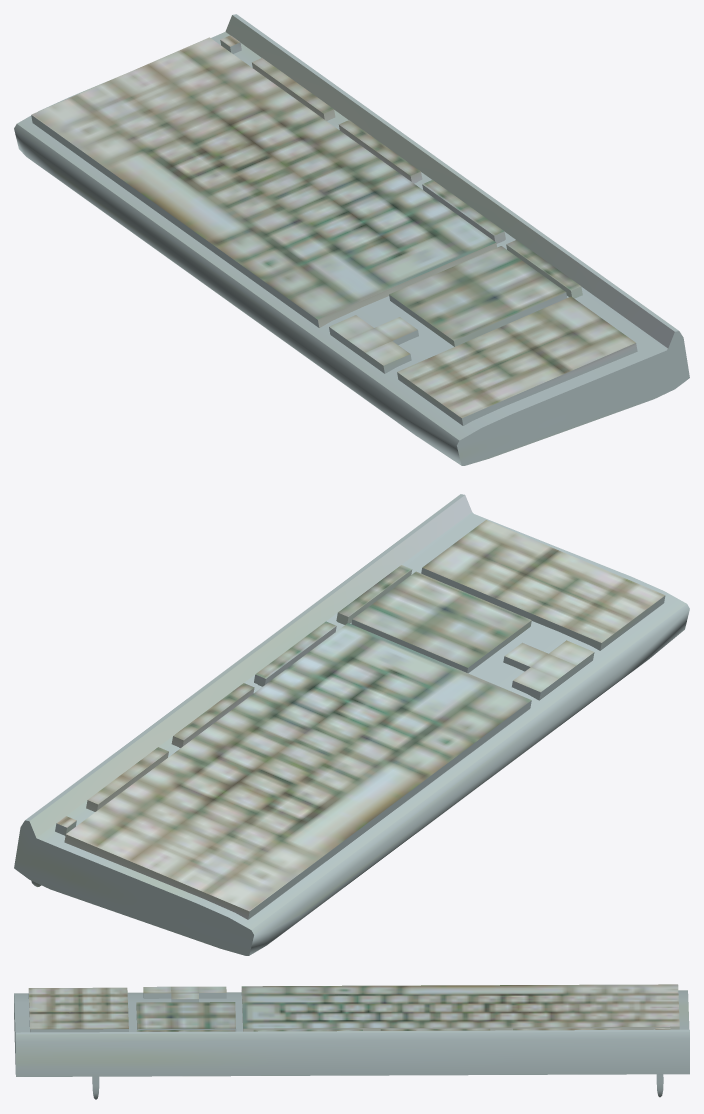
The model's file is object_10_lev1.glb.
3 renders of one model, top to bottom at view 1: azimuth 30°, elevation 25°; view 2: azimuth 150°, elevation 25°; view 3: azimuth 270°, elevation 25°, orthographic. The views are drawn at different scales.
Visible parts, largest first — view 1: object_10_lev1; view 2: object_10_lev1; view 3: object_10_lev1.
Boxes of the visible parts, left/top/right/bottom form: object_10_lev1: left=14, top=14, right=689, bottom=465; object_10_lev1: left=14, top=494, right=689, bottom=955; object_10_lev1: left=14, top=984, right=689, bottom=1099.
Bounding box in the file's own units: 0.2408 × 0.0768 × 0.7444.
Materials: 1 (1 with a texture image).
